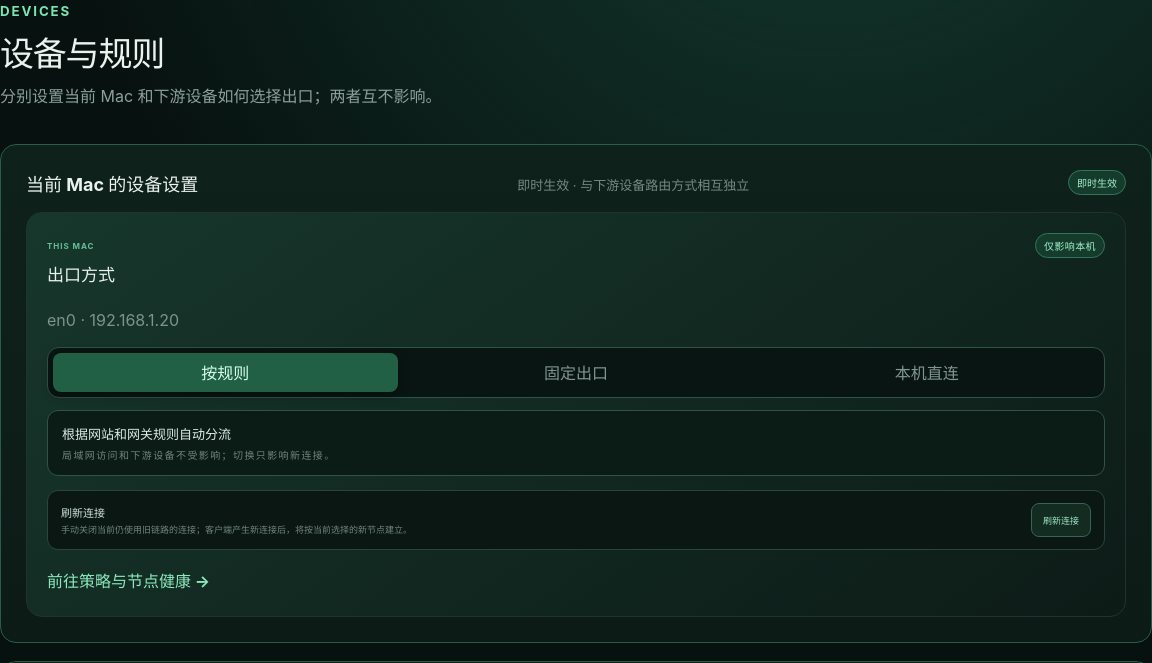
Test: DevicesPage › refreshes only Mac-local connections from the Mac card
What coordinates should you click on to do the following:
click the button with aria-label "刷新 Mac 本机连接"
I would click on:
 (1061, 520)
Its box is x1=1031 y1=503 x2=1091 y2=537.
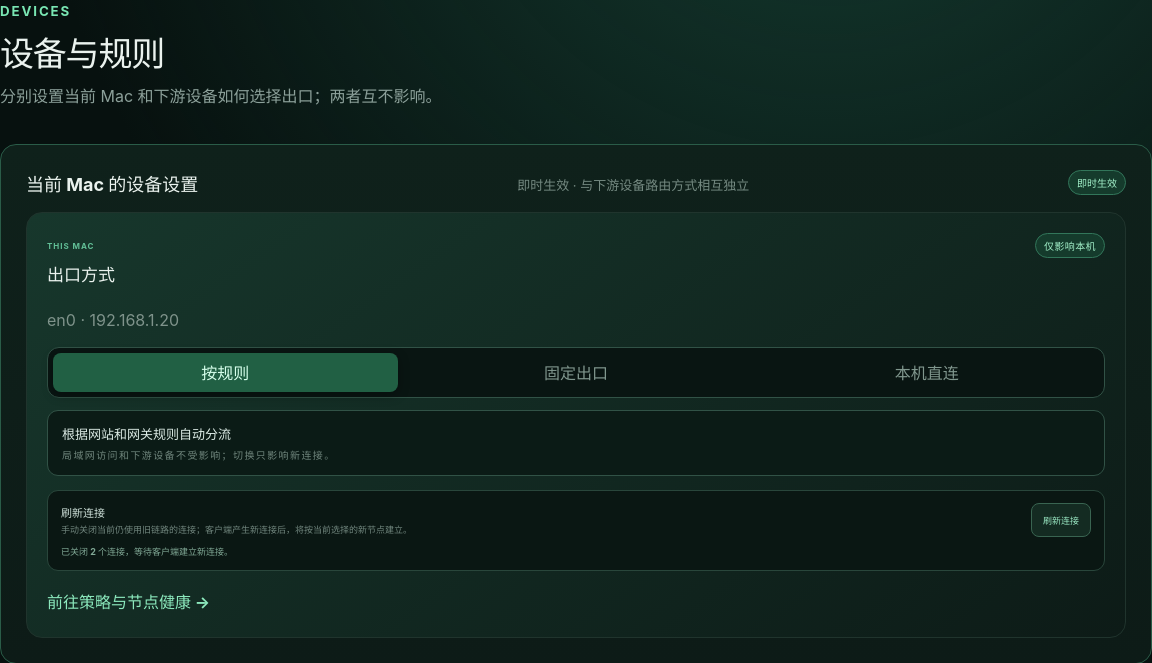
Now the text "已关闭 2 个连接，等待客户端建立新连接。" is shown, box x1=61 y1=546 x2=233 y2=557
